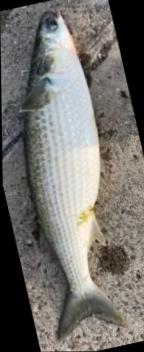fish: (17, 8, 123, 342)
